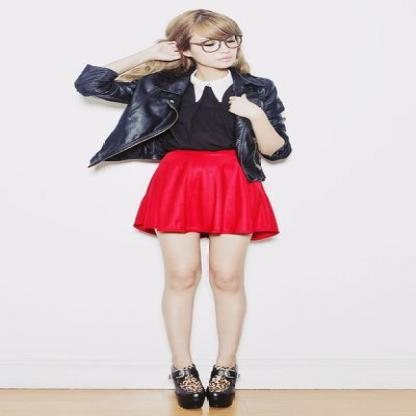jacket: (75, 59, 291, 183)
shirt: (164, 75, 255, 150)
shoe: (168, 366, 246, 409)
skirt: (133, 150, 279, 240)
